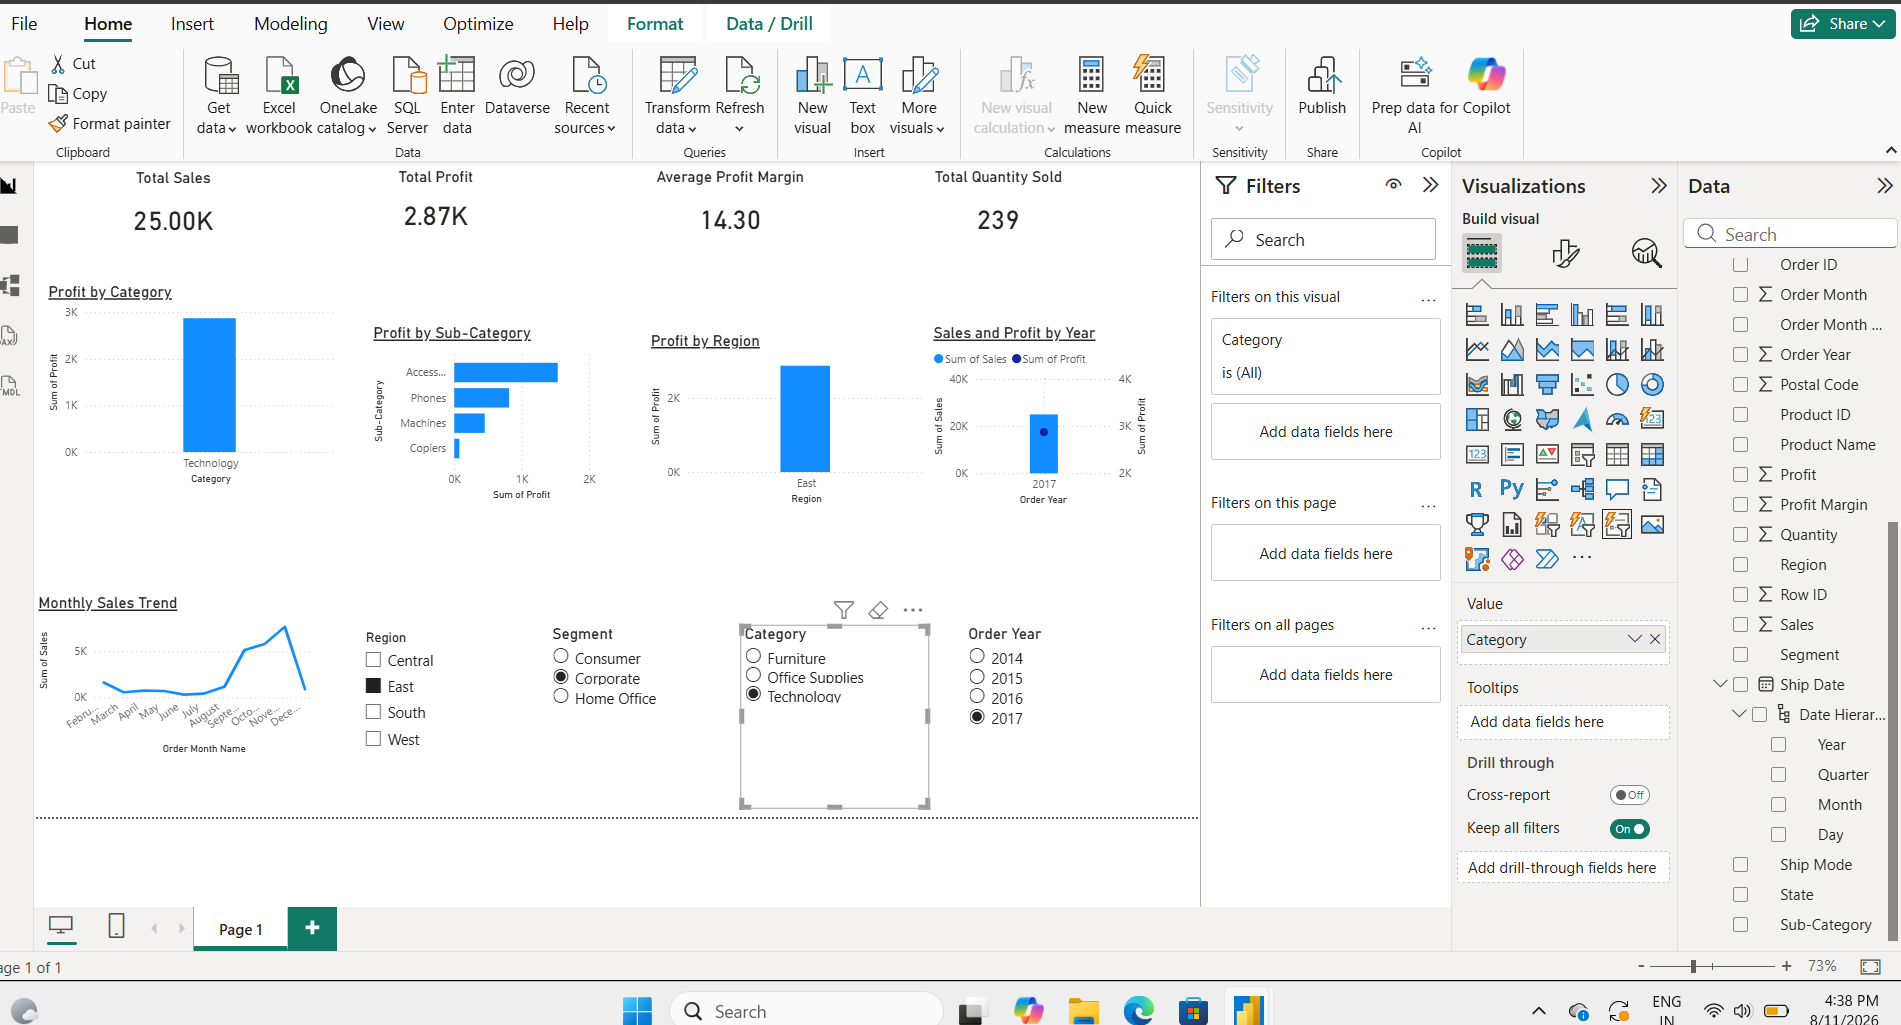

The page's visual inventory and layout, read from the dashboard file:
{"tool":"powerbi","page":{"name":"Page 1","canvas":[1280,720],"ordinal":0},"visuals":[{"type":"card","title":"Total Sales","fields":{"Values":["Sum(superstore_cleaned.Sales)"]},"box":[11,8.2,284,91.9],"z":0},{"type":"card","title":"Total Profit","fields":{"Values":["Sum(superstore_cleaned.Profit)"]},"box":[308.7,6.9,264.8,85.1],"z":1000},{"type":"card","title":"Average Profit Margin","fields":{"Values":["superstore_cleaned.Average Profit Margin"]},"box":[639.5,6.9,249.7,91.9],"z":2000},{"type":"card","title":"Total Quantity Sold","fields":{"Values":["Sum(superstore_cleaned.Quantity)"]},"box":[901.5,6.9,314.2,91.9],"z":3000},{"type":"clusteredColumnChart","title":"Profit by Category","fields":{"Category":["superstore_cleaned.Category"],"Y":["Sum(superstore_cleaned.Profit)"]},"box":[11,133.1,325.2,226.4],"z":4000},{"type":"clusteredBarChart","title":"Profit by Sub-Category","fields":{"Category":["superstore_cleaned.Sub-Category"],"Y":["Sum(superstore_cleaned.Profit)"]},"box":[367.8,178.4,253.9,199],"z":5000},{"type":"clusteredColumnChart","title":"Profit by Region","fields":{"Category":["superstore_cleaned.Region"],"Y":["Sum(superstore_cleaned.Profit)"]},"box":[672.4,186.6,310.1,194.9],"z":5001},{"type":"lineStackedColumnComboChart","title":"Sales and Profit by  Year","fields":{"Category":["superstore_cleaned.Order Year"],"Y":["Sum(superstore_cleaned.Sales)"],"Y2":["Sum(superstore_cleaned.Profit)"]},"box":[982.5,178.4,245.6,204.5],"z":5002},{"type":"lineChart","title":" Monthly Sales Trend ","fields":{"Category":["superstore_cleaned.Order Month Name"],"Y":["Sum(superstore_cleaned.Sales)"]},"box":[0,474.8,311.5,181.1],"z":5003},{"type":"slicer","fields":{"Values":["superstore_cleaned.Region"]},"box":[351.3,509.1,240.1,183.9],"z":5004},{"type":"listSlicer","fields":{"Values":["superstore_cleaned.Category"]},"box":[775.3,509.1,207.2,201.7],"z":5005},{"type":"listSlicer","fields":{"Values":["superstore_cleaned.Segment"]},"box":[564,509.1,149.6,211.3],"z":5006},{"type":"listSlicer","title":"Order Year","fields":{"Values":["superstore_cleaned.Order Year"]},"box":[1020.9,509.1,259.3,211.3],"z":5007}]}

Visuals, with their boxes on the page's 1280x720 design canvas (x1, y1, x2, y2). These are canvas units, not pixel positions in the 1901x1025 screenshot, which may show the page scaled, cropped or inside an application window:
"Total Sales" card: 11:8:295:100
"Total Profit" card: 309:7:574:92
"Average Profit Margin" card: 640:7:889:99
"Total Quantity Sold" card: 902:7:1216:99
"Profit by Category" clusteredColumnChart: 11:133:336:360
"Profit by Sub-Category" clusteredBarChart: 368:178:622:377
"Profit by Region" clusteredColumnChart: 672:187:982:382
"Sales and Profit by  Year" lineStackedColumnComboChart: 982:178:1228:383
" Monthly Sales Trend " lineChart: 0:475:312:656
slicer - superstore_cleaned.Region: 351:509:591:693
listSlicer - superstore_cleaned.Category: 775:509:982:711
listSlicer - superstore_cleaned.Segment: 564:509:714:720
"Order Year" listSlicer: 1021:509:1280:720
